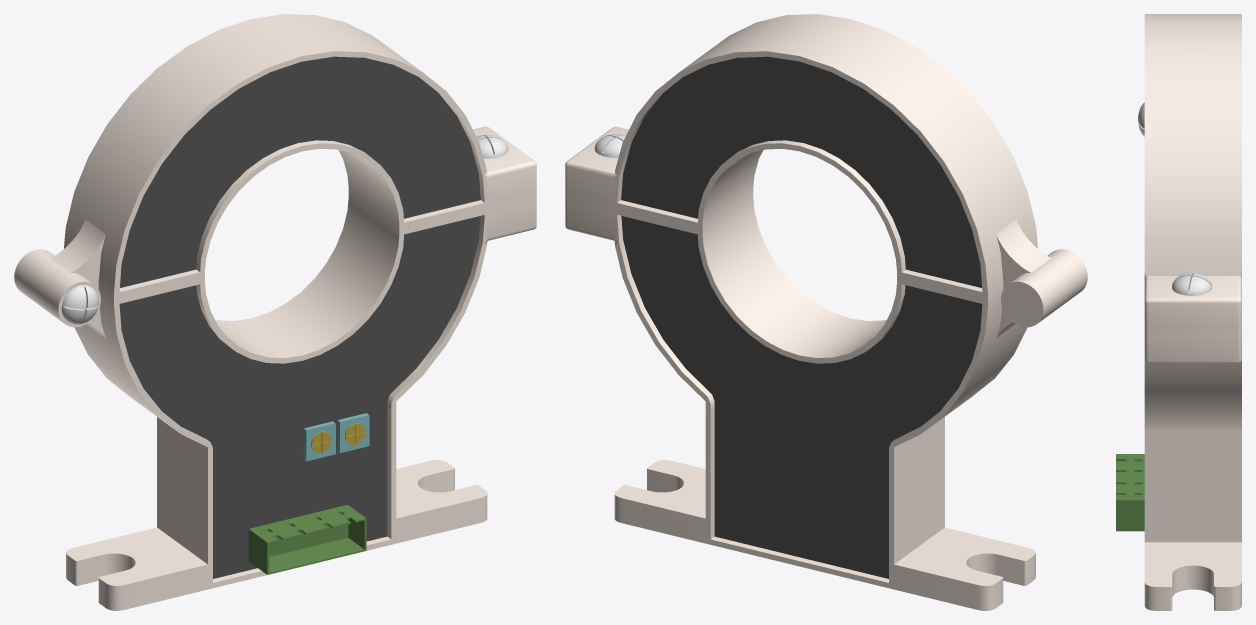
Rendered from Sensor_B.glb.
3 views of the same model, side by side, from view 1: azimuth 30°, elevation 25°; view 2: azimuth 150°, elevation 25°; view 3: azimuth 270°, elevation 25° (orthographic). The views are drawn at different scales.
Visible parts, largest first — view 1: Sensor_B; view 2: Sensor_B; view 3: Sensor_B.
Boxes of the visible parts, x1,y1,x2,y2 form: Sensor_B: [14, 14, 536, 610]; Sensor_B: [565, 14, 1087, 610]; Sensor_B: [1116, 14, 1241, 610].
Bounding box in the file's own units: 2.65 × 2.71 × 0.6317.
